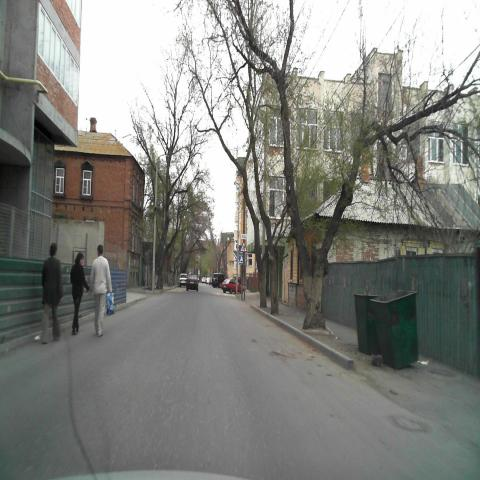1_21: (240, 241, 248, 253)
5_20: (238, 255, 244, 264)
